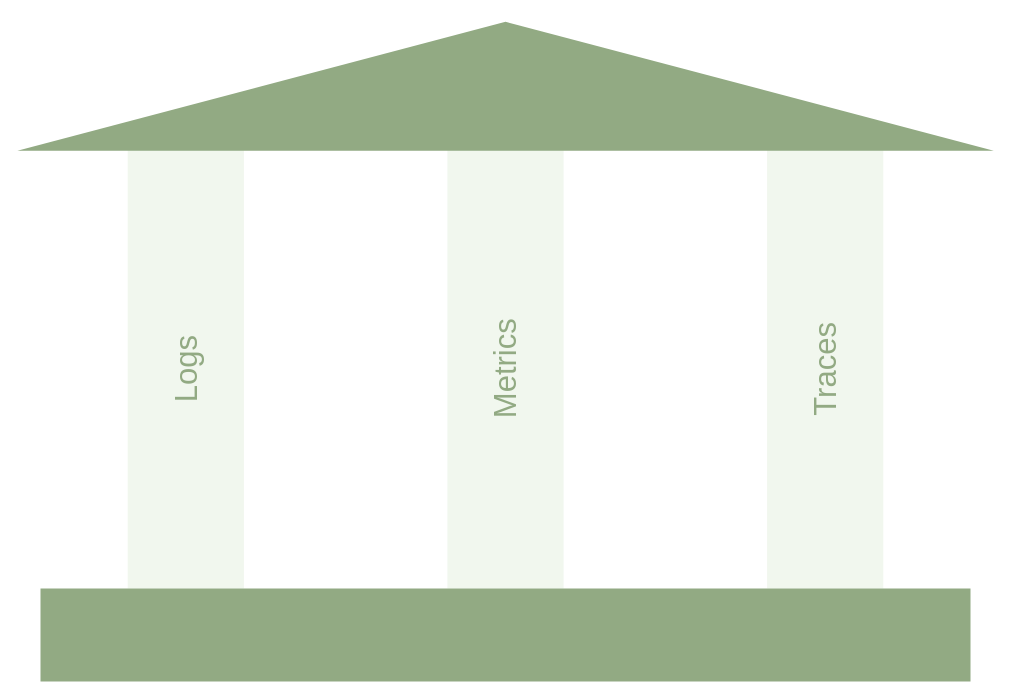
Image size: 1011x698. Some labels were removed from this diagram. Here are the shapes that lost their labels. From the top down, the centre of each, then its label:
At (x=505, y=85): "Observability Frontend - Grafana -".
At (x=505, y=634): "Container Orchestration - Kubernetes -".
